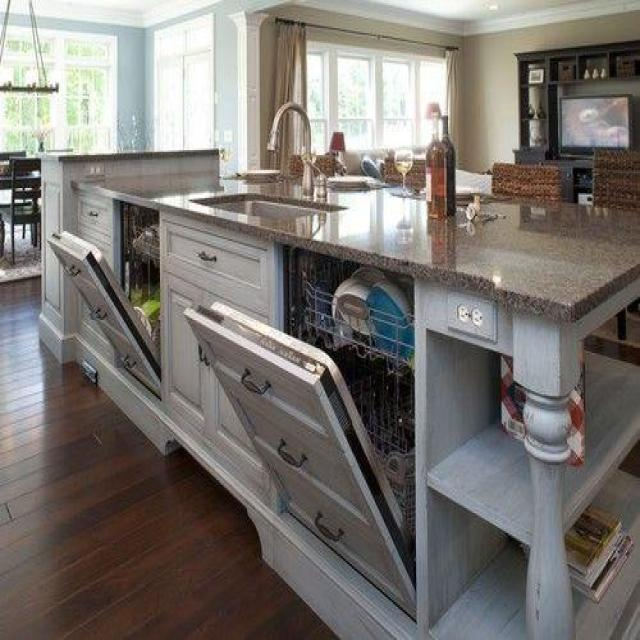dishwasher: (259, 213, 442, 640), (100, 172, 184, 441)
